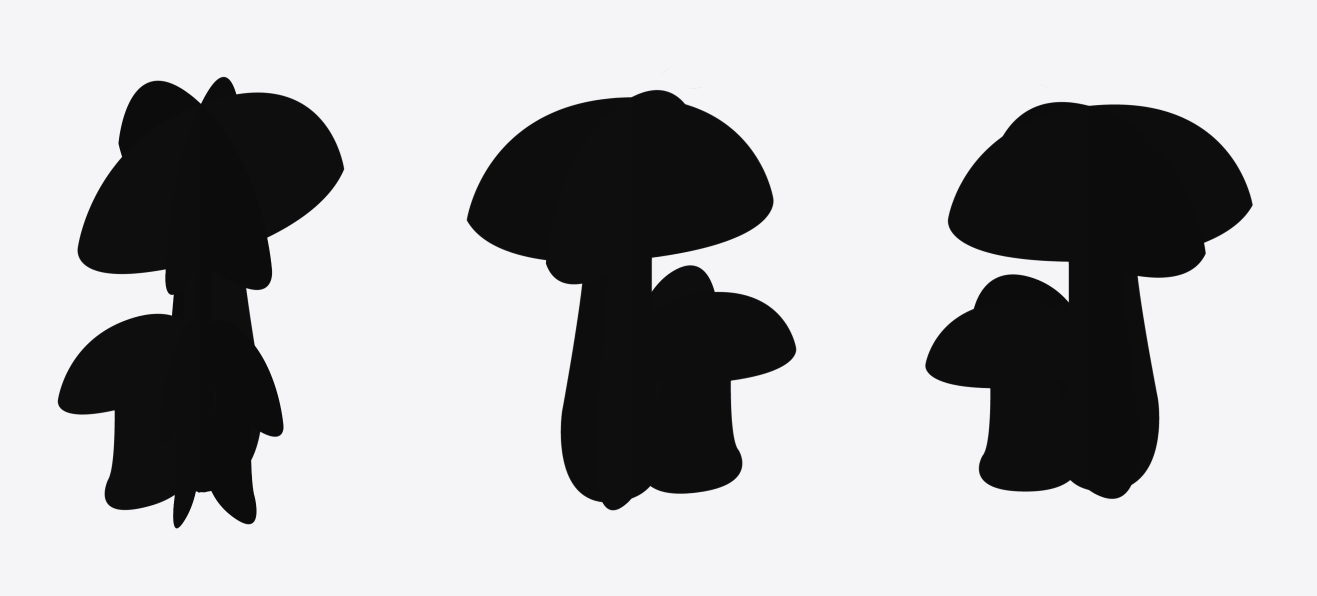
Rendered from MushroomDuo.glb.
3 views of the same model, side by side, from view 1: azimuth 30°, elevation 25°; view 2: azimuth 150°, elevation 25°; view 3: azimuth 270°, elevation 25° (orthographic). The views are drawn at different scales.
Parts seen in each view (by area): view 1: MushwoomDuo; view 2: MushwoomDuo; view 3: MushwoomDuo.
Boxes of the visible parts, left/top/right/bottom form: MushwoomDuo: left=57, top=77, right=343, bottom=528; MushwoomDuo: left=466, top=90, right=796, bottom=510; MushwoomDuo: left=925, top=102, right=1252, bottom=498.
Size of the model in its own units: 2 by 2 by 2.
Materials: 1 (1 with a texture image).
